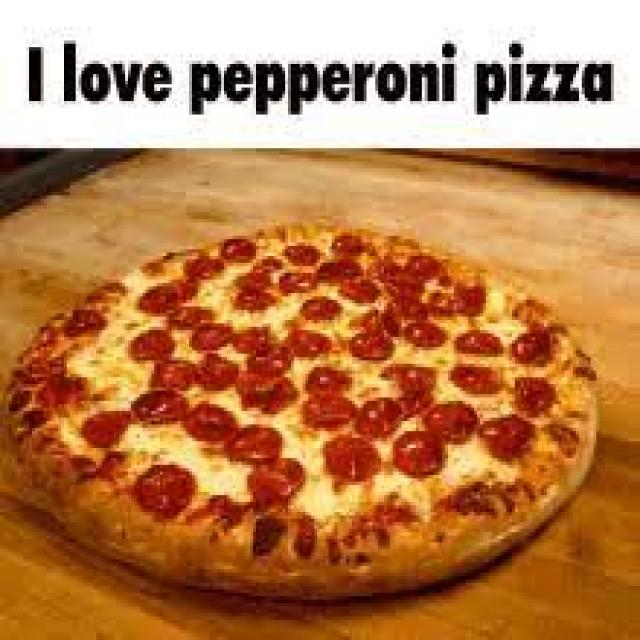Pizza: (58, 252, 636, 572)
